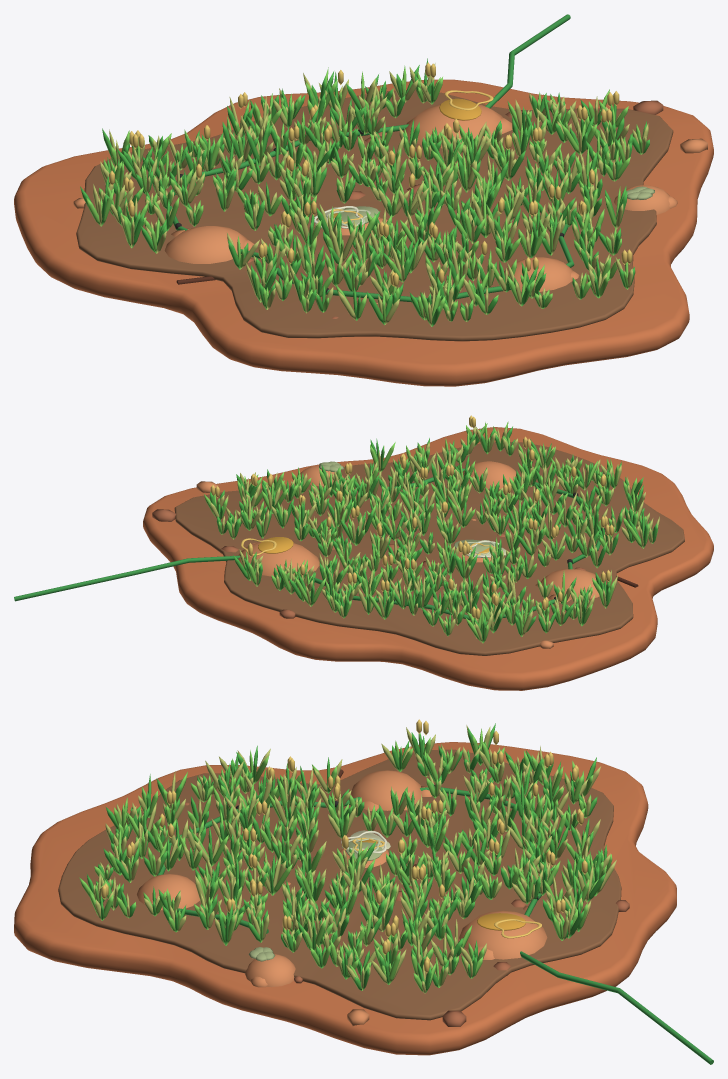
3 renders of one model, top to bottom at view 1: azimuth 30°, elevation 25°; view 2: azimuth 150°, elevation 25°; view 3: azimuth 270°, elevation 25°, orthographic. The views are drawn at different scales.
Visible parts, largest first — view 1: Cylinder, Cylinder.005, Sphere.041, Sphere.043, Sphere.042, Sphere, Sphere.048, pipe.003, Cylinder.002, Cylinder.003, Sphere.011; view 2: Cylinder.005, Cylinder, Sphere.041, Sphere.042, Sphere.043, Sphere, Sphere.048, pipe.003, Sphere.011, Cylinder.002; view 3: Cylinder, Cylinder.005, Sphere.041, Sphere.042, Sphere.043, Sphere, Sphere.048, pipe.003, Sphere.011, Cylinder.002, Cylinder.003.
Boxes of the visible parts, x1,y1,x2,y2 form: Cylinder: (14,79,713,386); Cylinder.005: (76,90,673,341); Sphere.041: (80,58,649,326); Sphere.043: (93,63,648,326); Sphere.042: (86,65,642,325); Sphere: (73,104,707,303); Sphere.048: (109,62,632,287); pipe.003: (166,14,574,303); Cylinder.002: (330,98,481,221); Cylinder.003: (337,186,654,224); Sphere.011: (247,99,663,318); Cylinder.005: (174,442,684,655); Cylinder: (143,427,713,690); Sphere.041: (209,426,657,642); Sphere.042: (204,421,658,642); Sphere.043: (210,427,659,643); Sphere: (196,461,606,648); Sphere.048: (210,415,613,619); pipe.003: (14,468,604,620); Sphere.011: (152,509,585,618); Cylinder.002: (258,537,489,553); Cylinder: (14,742,676,1055); Cylinder.005: (58,749,621,1020); Sphere.041: (87,723,607,992); Sphere.042: (79,728,612,991); Sphere.043: (93,725,616,993); Sphere: (137,770,547,1025); Sphere.048: (101,719,587,973); pipe.003: (157,787,713,1064); Sphere.011: (185,797,629,1026); Cylinder.002: (358,839,525,930); Cylinder.003: (248,841,382,961).
Bounding box in the file's own units: 1.57 × 0.2009 × 1.51.
